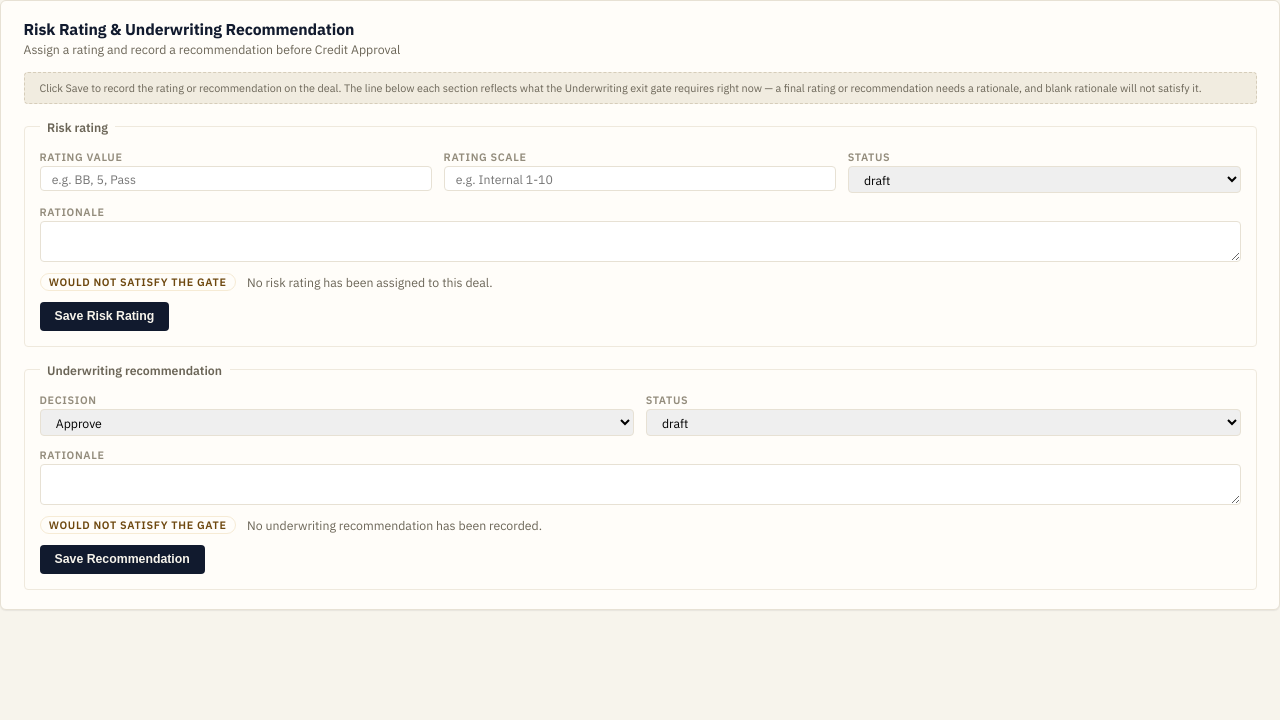
DealRiskRatingPanel › assigning a rating value, scale, rationale, and status "assigned" satisfies the readiness policy
Type "BB" into the field labelled "Rating value" at coordinates (236, 179), box [40, 166, 432, 191]
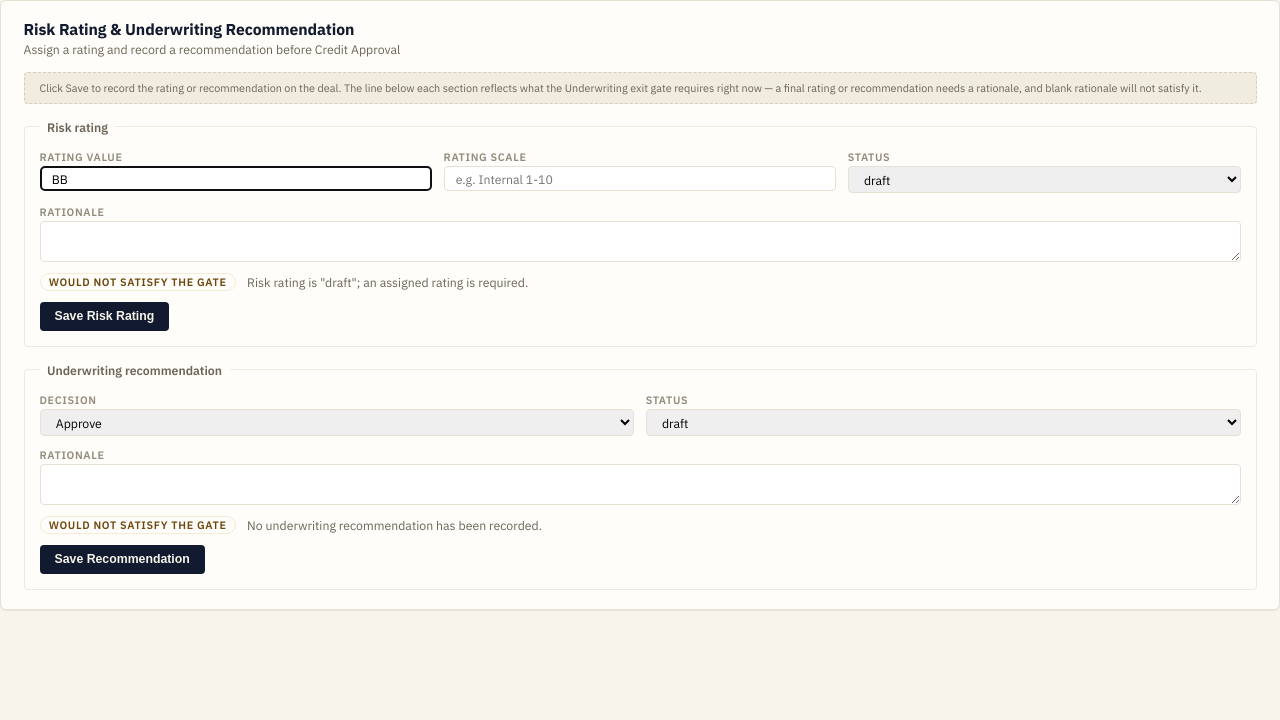
Type "Internal 1-10" into the field labelled "Rating scale" at coordinates (640, 179), box [444, 166, 836, 191]
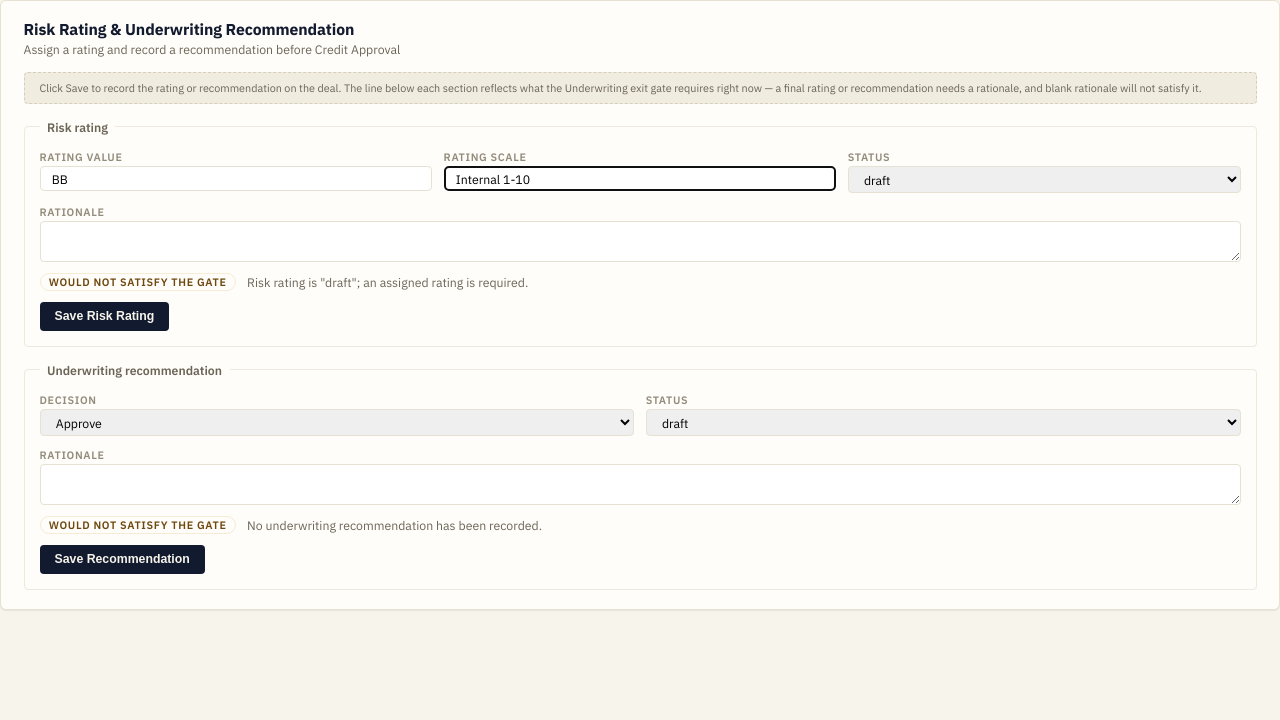
Type "Stable, seasonal cash flow." into the text box labelled "Rationale" below "Rating value" at coordinates (640, 241), box [40, 220, 1240, 262]
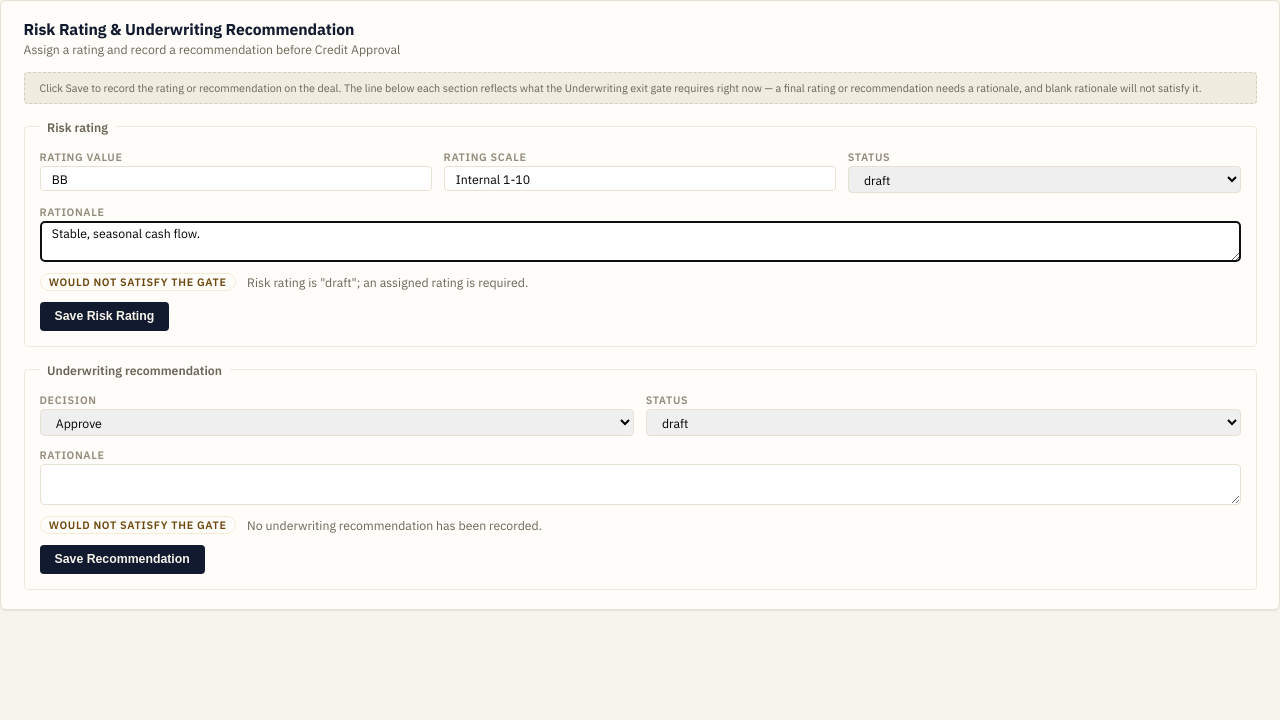
Select "assigned" in the 1st dropdown labelled "Status" at coordinates (1044, 180), box [848, 166, 1240, 193]
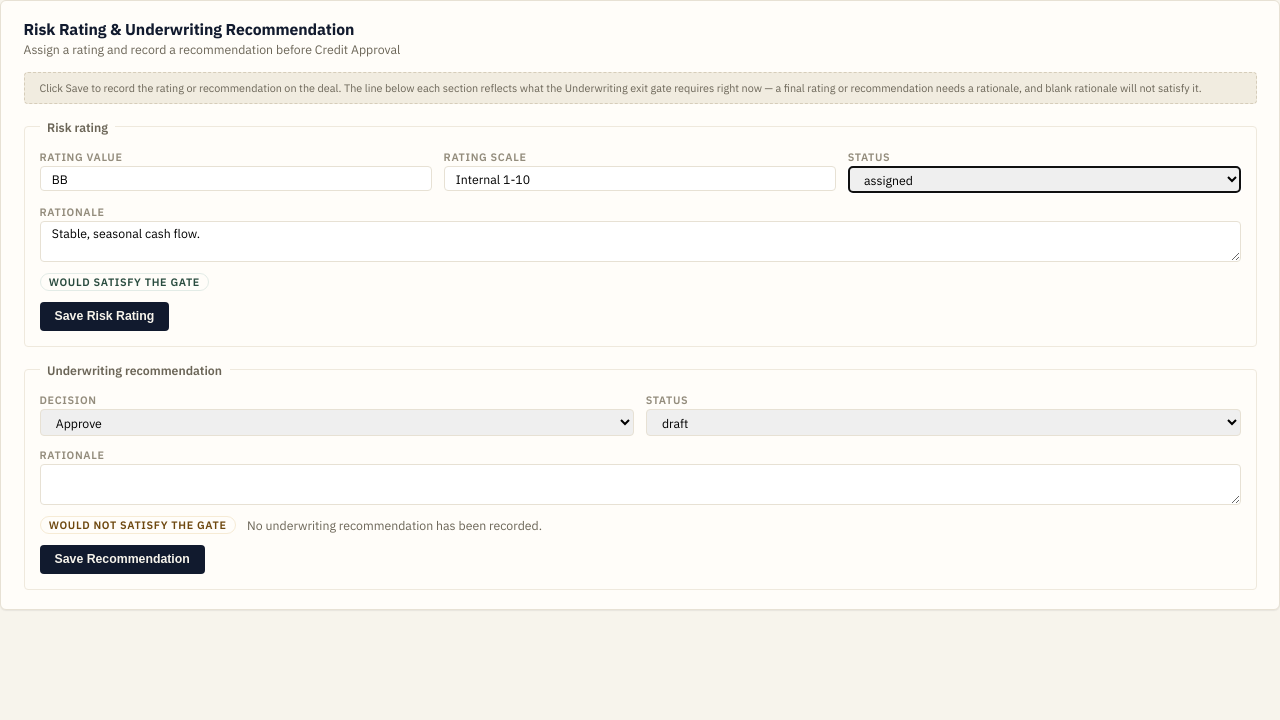
Result: the element showing "Would satisfy the gate" is shown at [40, 273, 209, 291]
